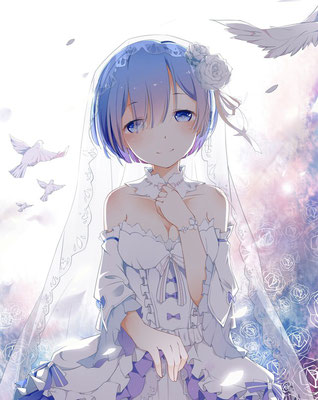rem: (89, 36, 244, 397)
